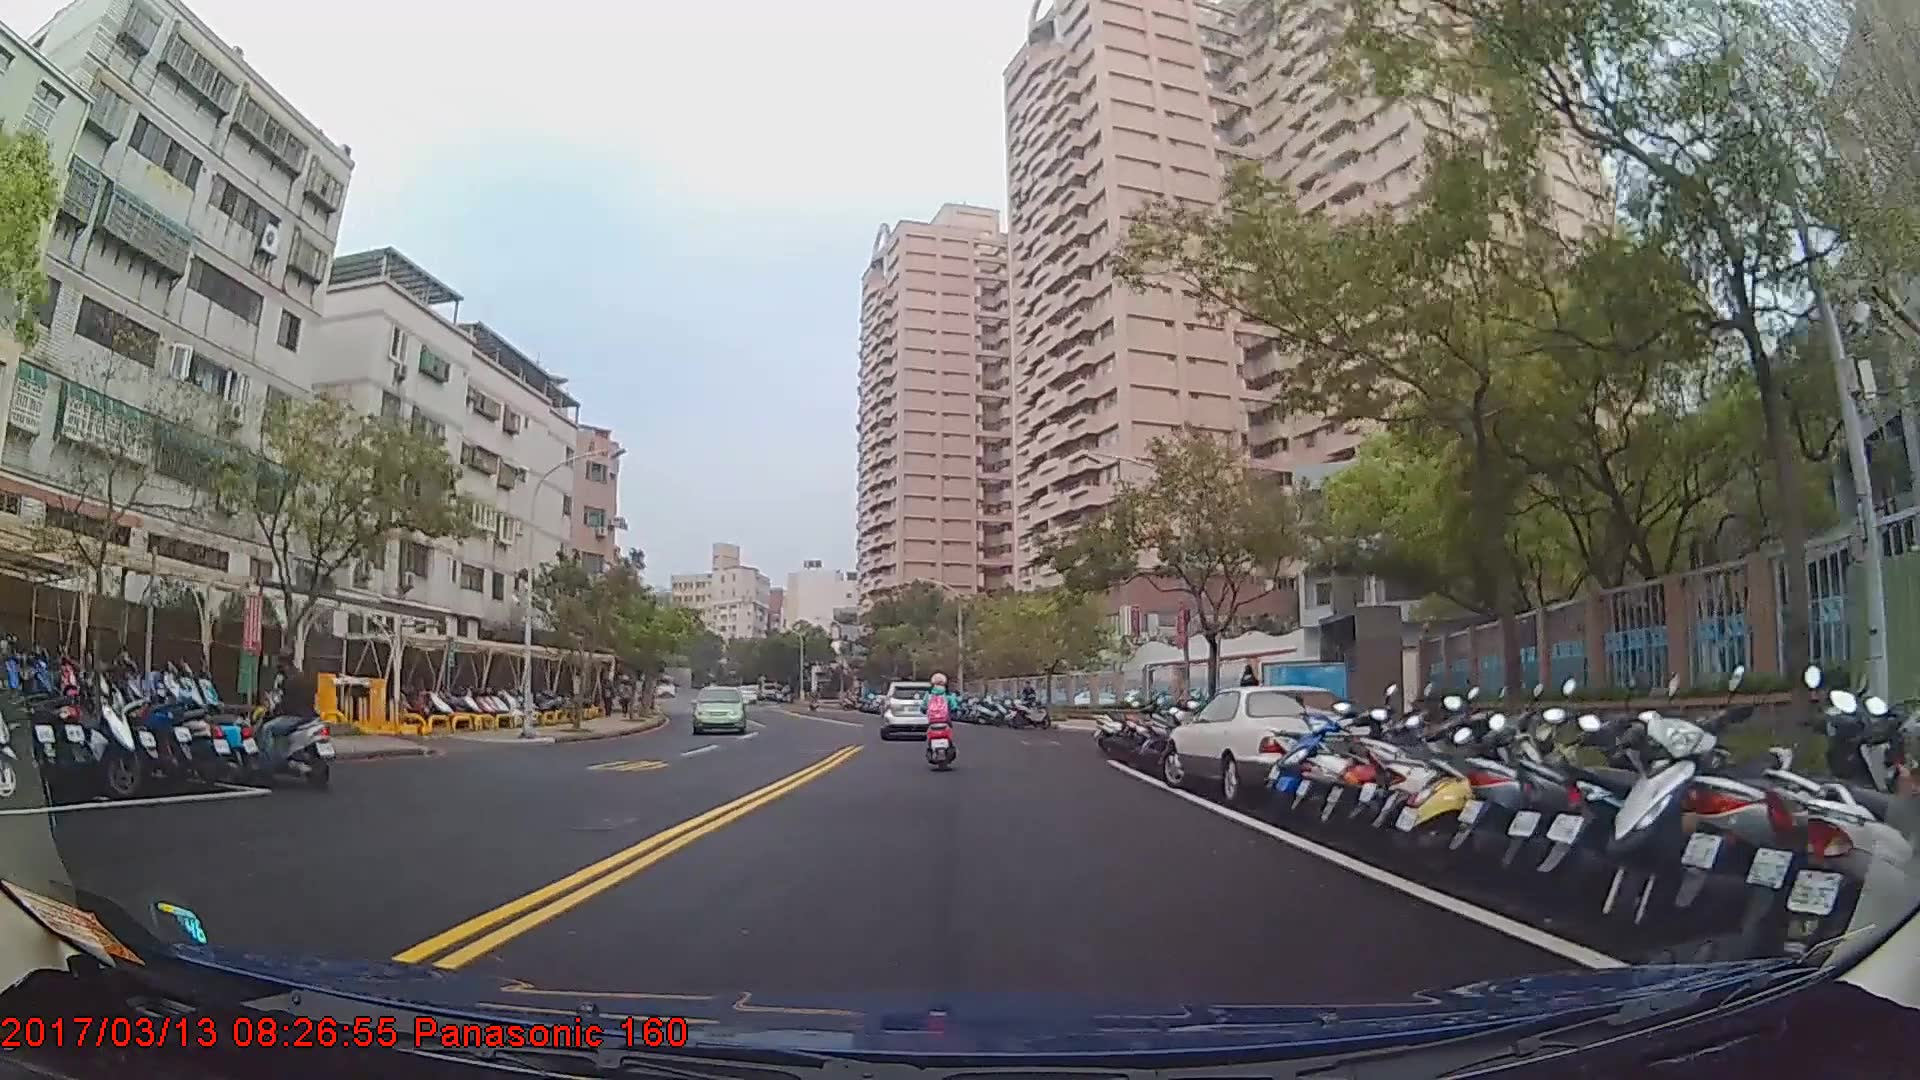pedestrian: (1239, 664, 1264, 730)
rider: (243, 646, 322, 782), (921, 670, 962, 775)
vehicle: (1162, 684, 1384, 803), (876, 678, 938, 737), (690, 684, 746, 736)
